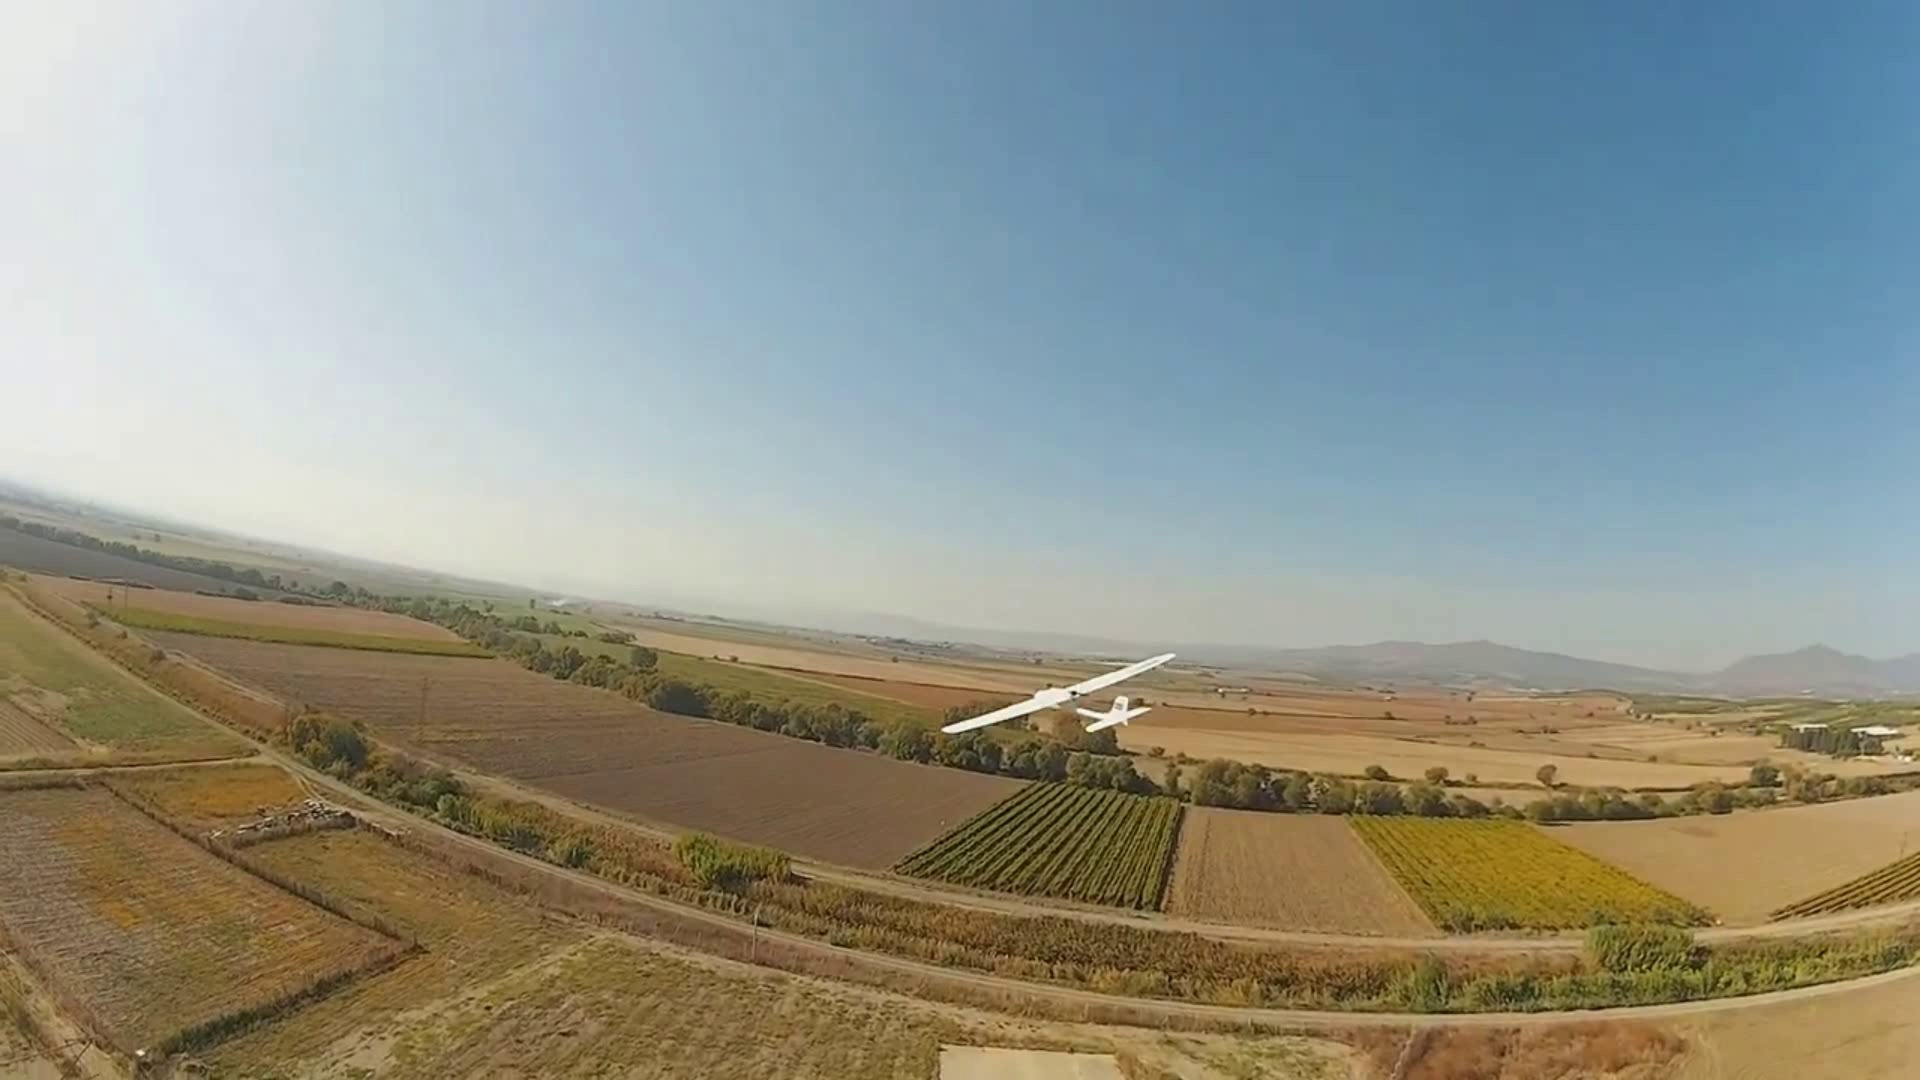airplane: (928, 650, 1182, 771)
